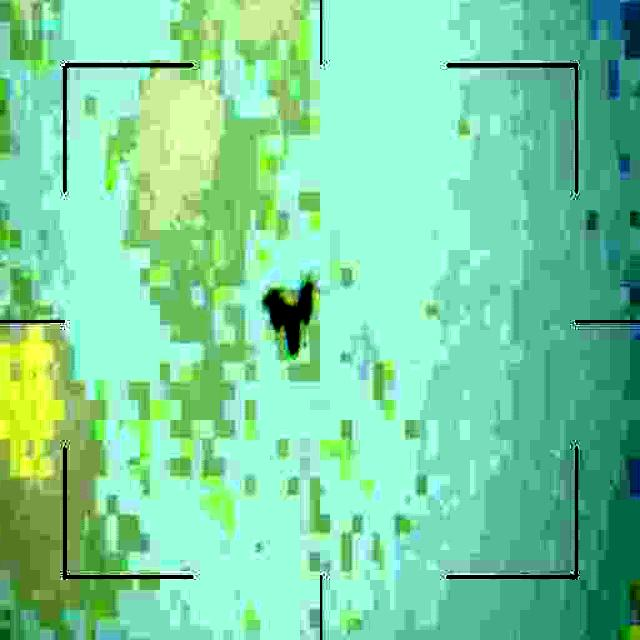bird: (262, 271, 320, 366)
